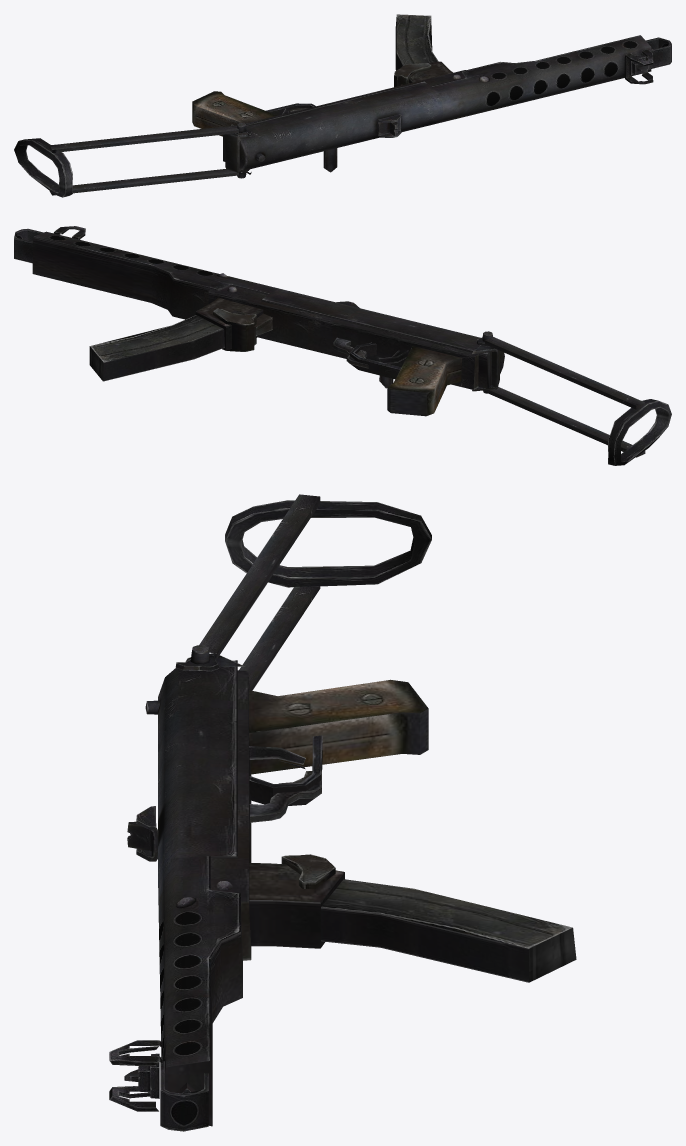
Rendered from weapon_pps43.glb.
The picture shows the model from 3 angles, top to bottom: view 1: azimuth 30°, elevation 25°; view 2: azimuth 150°, elevation 25°; view 3: azimuth 270°, elevation 25°; orthographic projection. The views are drawn at different scales.
Bounding box in the file's own units: 31.76 × 3.58 × 10.77.
1 material, 1 textured.
